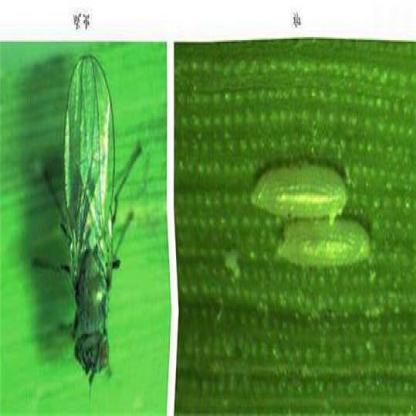whorl-maggot: (247, 154, 351, 224), (272, 220, 378, 273)
